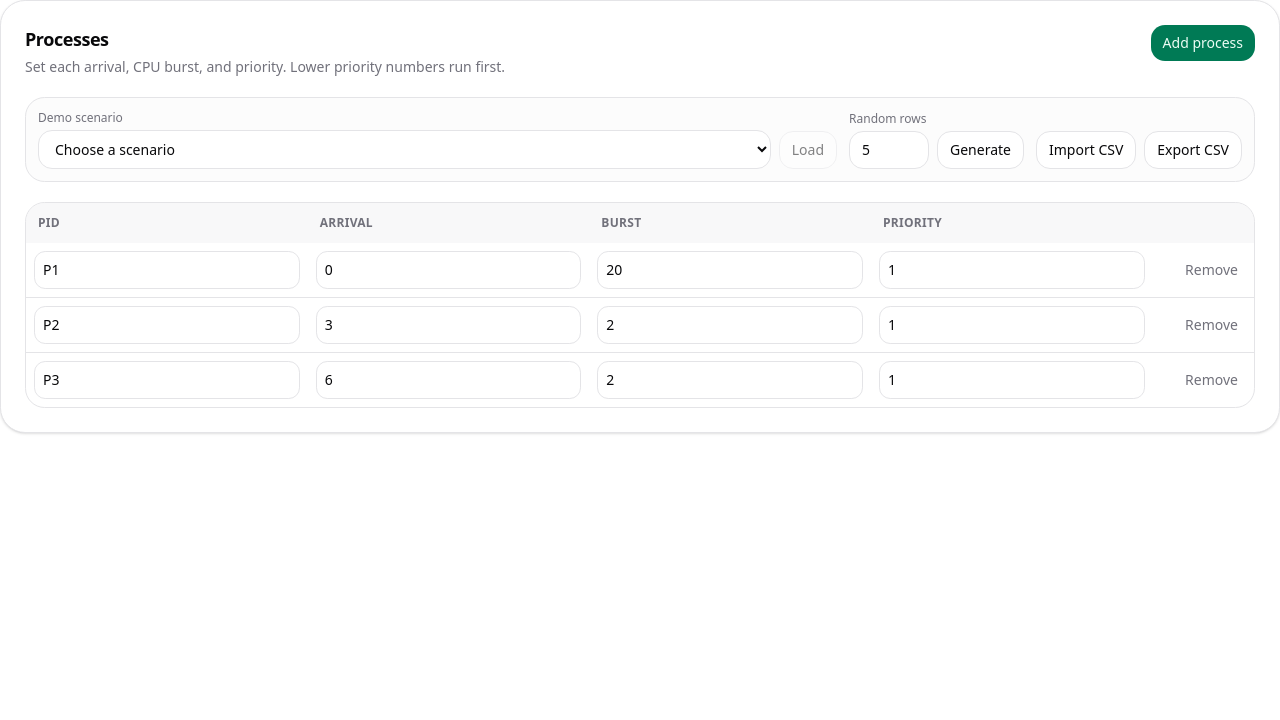
Test case: ProcessTable › shows field and row validation for invalid edits
The width and height of the screenshot is (1280, 720).
Replace the text in the number field named "Burst for row 1" with "0" at (730, 270), box [597,251,863,289]
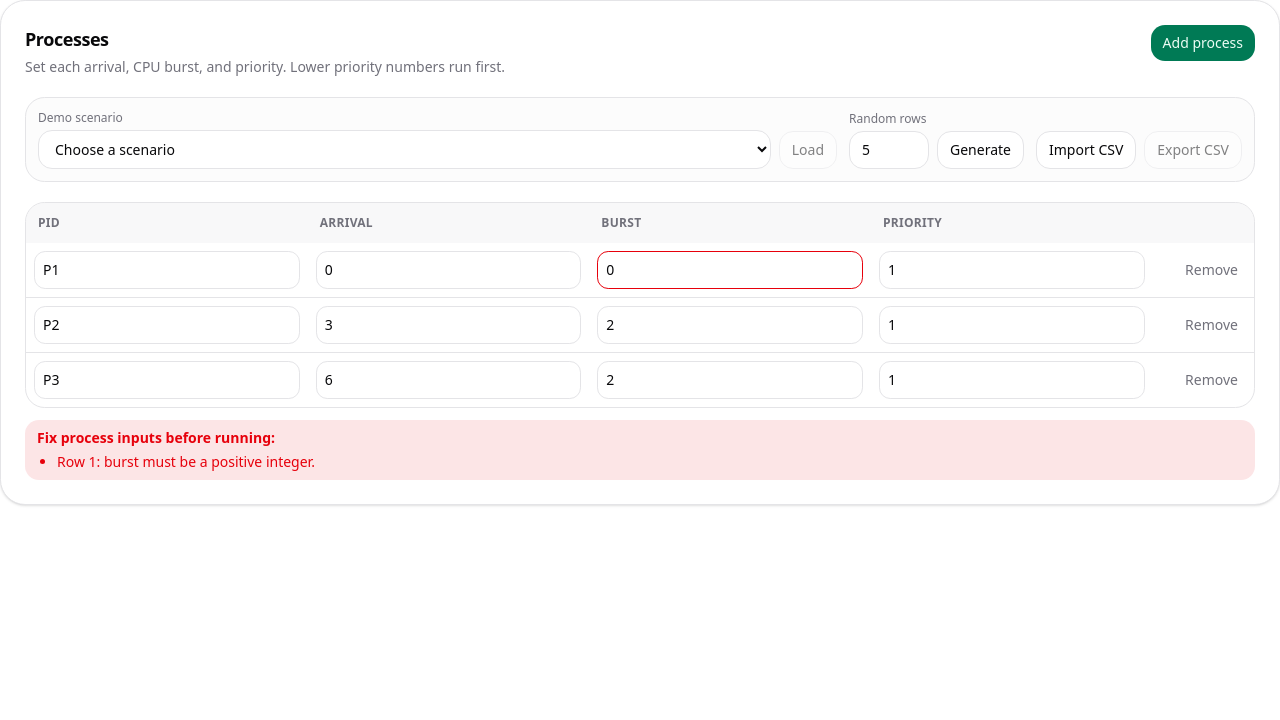
Expected: the list item "Row 1: burst must be a positive integer." is shown, [57,452,315,471]
Expected: the button "Export CSV" is disabled, [1144,131,1242,169]
